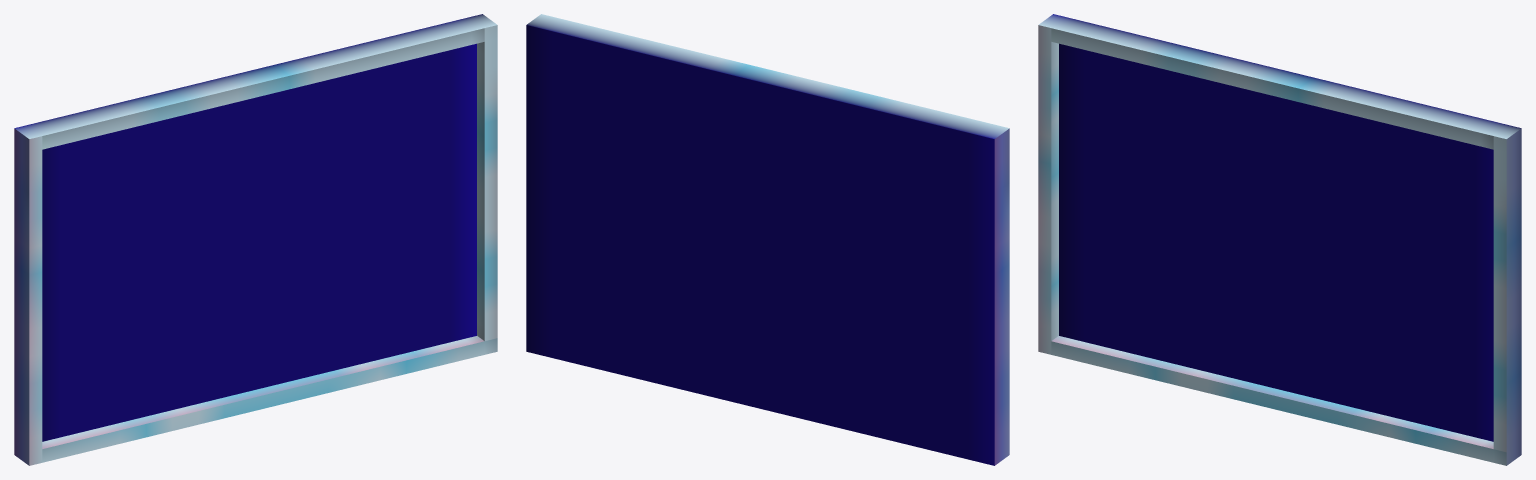
The model's file is BillboardModule_Screen_B_00.fbx.
The picture shows the model from 3 angles, left to right: view 1: azimuth 30°, elevation 25°; view 2: azimuth 150°, elevation 25°; view 3: azimuth 330°, elevation 25°; orthographic projection.
Parts seen in each view (by area): view 1: BillboardModule_Screen_B_00; view 2: BillboardModule_Screen_B_00; view 3: BillboardModule_Screen_B_00.
Boxes of the visible parts, x1,y1,x2,y2 form: BillboardModule_Screen_B_00: (14,14,497,465); BillboardModule_Screen_B_00: (526,14,1009,465); BillboardModule_Screen_B_00: (1038,14,1521,465).
Size of the model in its own units: 180 by 120 by 10.
